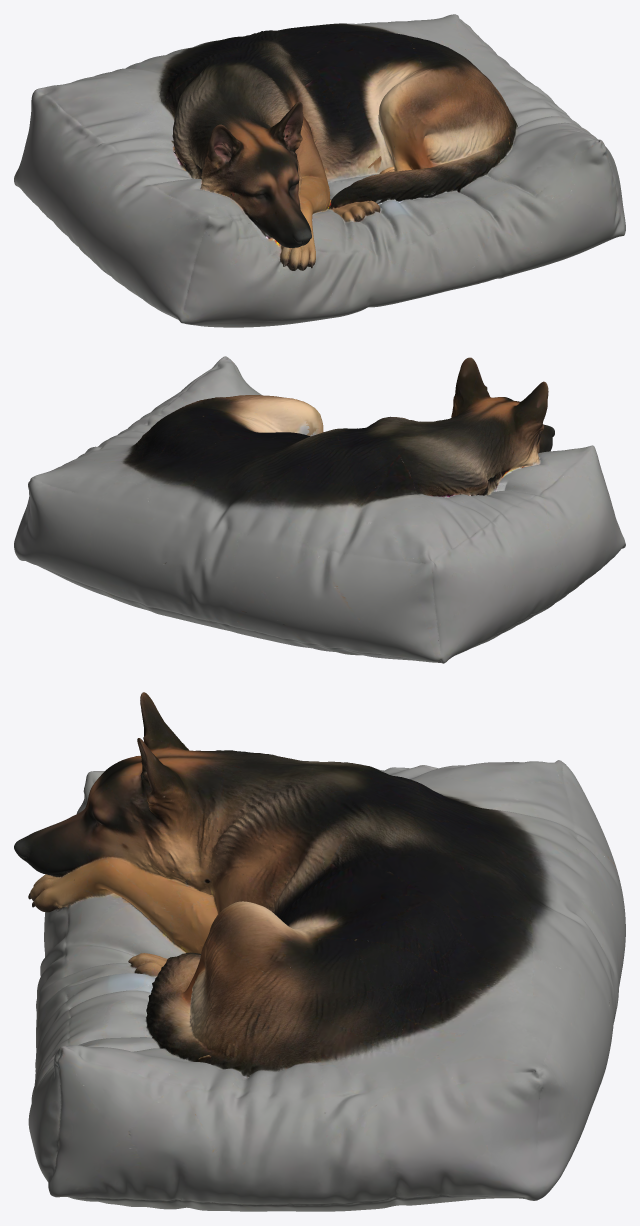
The model's file is berger-couche-coussin-compressed.glb.
The picture shows the model from 3 angles, top to bottom: view 1: azimuth 30°, elevation 25°; view 2: azimuth 150°, elevation 25°; view 3: azimuth 270°, elevation 25°; orthographic projection. The views are drawn at different scales.
Visible parts, largest first — view 1: unnamed; view 2: unnamed; view 3: unnamed.
Part boxes in pixels (x1,y1,x2,y2): unnamed: [14, 14, 625, 327]; unnamed: [14, 356, 625, 663]; unnamed: [14, 692, 625, 1211].
Bounding box in the file's own units: 1.9 × 0.7403 × 1.48.
1 material, 1 textured.
